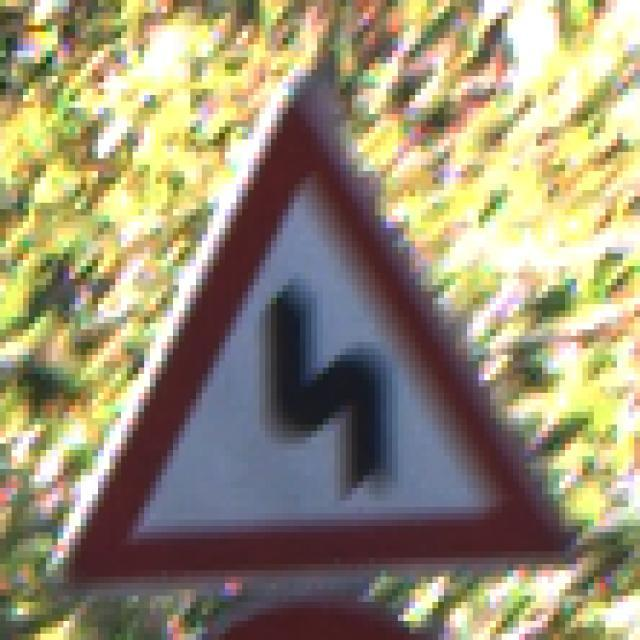left reverse bend: (69, 80, 565, 574)
